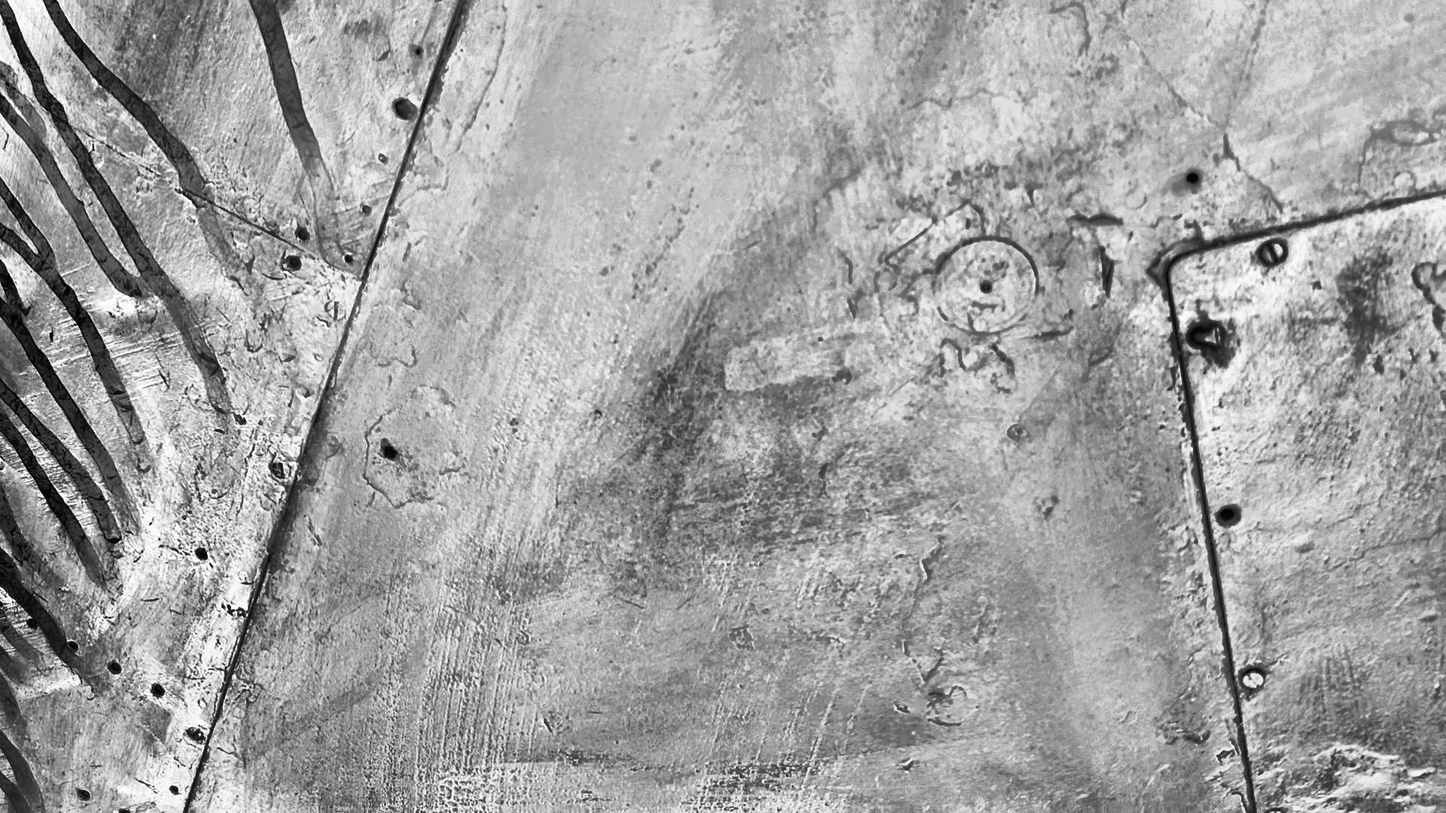dent: (87, 295, 158, 333)
missing-head: (1216, 506, 1243, 527), (394, 98, 414, 120), (151, 681, 166, 698), (107, 661, 122, 676), (168, 783, 181, 796), (68, 638, 79, 651), (343, 252, 354, 263)
